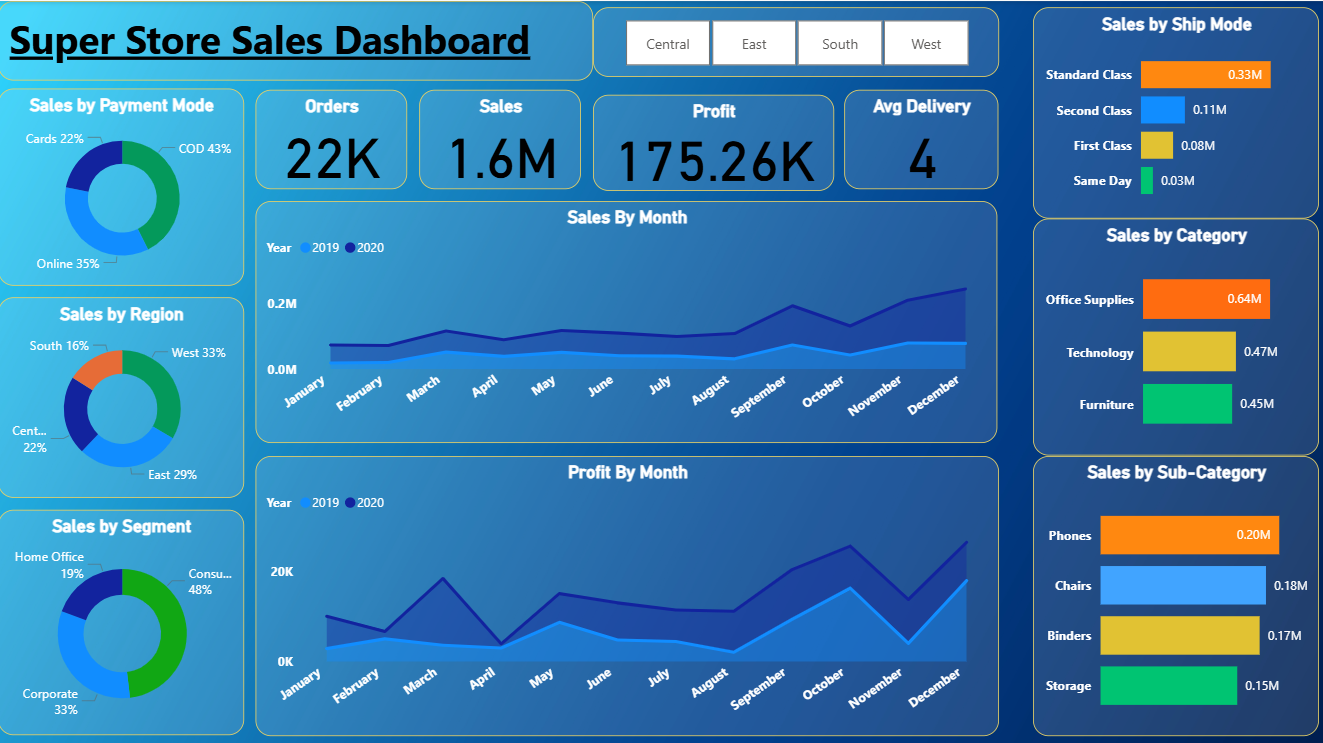

The page's visual inventory and layout, read from the dashboard file:
{"tool":"powerbi","page":{"name":"Page 1","canvas":[1280,720],"ordinal":0},"visuals":[{"type":"clusteredBarChart","title":"Sales by Category","fields":{"Category":["Sheet1 (3).Category"],"Y":["Sum(Sheet1 (3).Sales)"]},"box":[998.6,209.8,276.2,229.1],"z":0},{"type":"clusteredBarChart","title":"Sales by Sub-Category","fields":{"Y":["Sum(Sheet1 (3).Sales)"],"Category":["Sheet1 (3).Sub-Category"]},"box":[998.8,438.8,276.2,270],"z":1000},{"type":"clusteredBarChart","title":"Sales by Ship Mode","fields":{"Y":["Sum(Sheet1 (3).Sales)"],"Category":["Sheet1 (3).Ship Mode"]},"box":[998.6,6,276.2,203.8],"z":2000},{"type":"stackedAreaChart","title":"Sales By Month","fields":{"Category":["Sheet1 (3).Order Date.Variation.Date Hierarchy.Month","Sheet1 (3).Order Date.Variation.Date Hierarchy.Day"],"Y":["Sum(Sheet1 (3).Sales)"],"Series":["Sheet1 (3).Order Date.Variation.Date Hierarchy.Year"]},"box":[248.4,193,716.4,234],"z":3000},{"type":"stackedAreaChart","title":"Profit By Month","fields":{"Category":["Sheet1 (3).Order Date.Variation.Date Hierarchy.Month","Sheet1 (3).Order Date.Variation.Date Hierarchy.Day"],"Series":["Sheet1 (3).Order Date.Variation.Date Hierarchy.Year"],"Y":["Sum(Sheet1 (3).Profit)"]},"box":[248.4,439,717.6,270.2],"z":4000},{"type":"donutChart","title":"Sales by Segment","fields":{"Category":["Sheet1 (3).Segment"],"Y":["Sum(Sheet1 (3).Sales)"]},"box":[0,491.2,237.5,217.5],"z":6000},{"type":"donutChart","title":"Sales by Payment Mode","fields":{"Category":["Sheet1 (3).Payment Mode"],"Y":["Sum(Sheet1 (3).Sales)"]},"box":[0,85,237.5,190],"z":7000},{"type":"slicer","fields":{"Values":["Sheet1 (3).Region"]},"box":[574.1,6,392,67.5],"z":8000},{"type":"textbox","box":[0,0,574.1,77.2],"z":9000},{"type":"card","title":"Sales","fields":{"Values":["Sum(Sheet1 (3).Sales)"]},"box":[406.2,86.2,156.2,96.2],"z":10000},{"type":"card","title":"Orders","fields":{"Values":["Sum(Sheet1 (3).Quantity)"]},"box":[248.8,86.2,146.2,96.2],"z":11000},{"type":"card","title":"Profit","fields":{"Values":["Sum(Sheet1 (3).Profit)"]},"box":[573.8,90,232.5,92.5],"z":12000},{"type":"card","title":"Avg Delivery ","fields":{"Values":["Avg(Sheet1 (3).Avg Delivery)"]},"box":[816.2,86.2,148.8,96.2],"z":13000},{"type":"donutChart","title":"Sales by Region","fields":{"Category":["Sheet1 (3).Region"],"Y":["Sum(Sheet1 (3).Sales)"]},"box":[0,286.2,237.5,193.8],"z":14000}]}

Visuals, with their boxes in screenshot pixels (x1, y1, x2, y2), scaled from the page's 1280x720 canvas onto the 1323x743 screenshot:
"Sales by Category" clusteredBarChart: {"x1": 1032, "y1": 217, "x2": 1318, "y2": 453}
"Sales by Sub-Category" clusteredBarChart: {"x1": 1032, "y1": 453, "x2": 1318, "y2": 731}
"Sales by Ship Mode" clusteredBarChart: {"x1": 1032, "y1": 6, "x2": 1318, "y2": 217}
"Sales By Month" stackedAreaChart: {"x1": 257, "y1": 199, "x2": 997, "y2": 441}
"Profit By Month" stackedAreaChart: {"x1": 257, "y1": 453, "x2": 998, "y2": 732}
"Sales by Segment" donutChart: {"x1": 0, "y1": 507, "x2": 245, "y2": 731}
"Sales by Payment Mode" donutChart: {"x1": 0, "y1": 88, "x2": 245, "y2": 284}
slicer - Sheet1 (3).Region: {"x1": 593, "y1": 6, "x2": 999, "y2": 76}
textbox: {"x1": 0, "y1": 0, "x2": 593, "y2": 80}
"Sales" card: {"x1": 420, "y1": 89, "x2": 581, "y2": 188}
"Orders" card: {"x1": 257, "y1": 89, "x2": 408, "y2": 188}
"Profit" card: {"x1": 593, "y1": 93, "x2": 833, "y2": 188}
"Avg Delivery " card: {"x1": 844, "y1": 89, "x2": 997, "y2": 188}
"Sales by Region" donutChart: {"x1": 0, "y1": 295, "x2": 245, "y2": 495}
